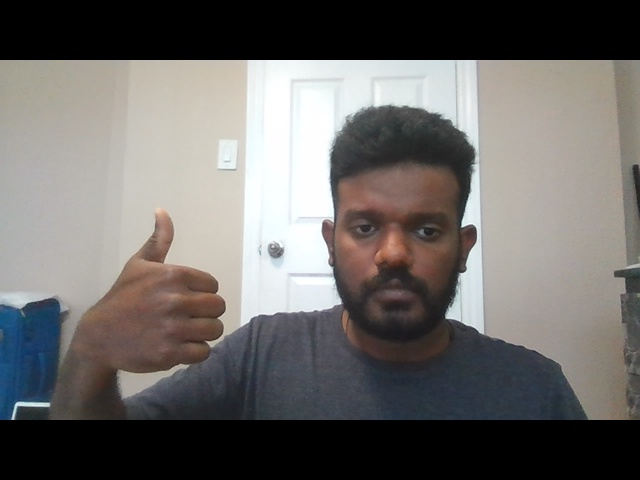yes: (85, 205, 227, 372)
